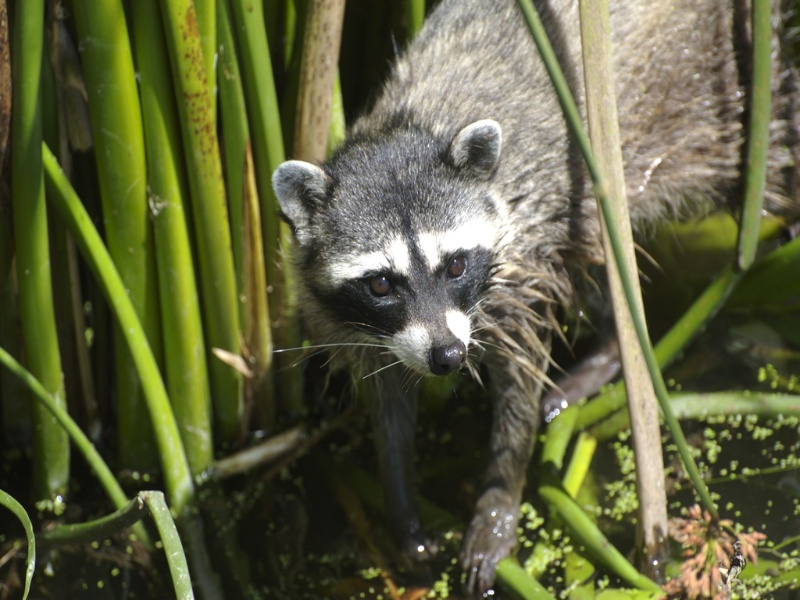raccoon: (269, 2, 790, 595)
